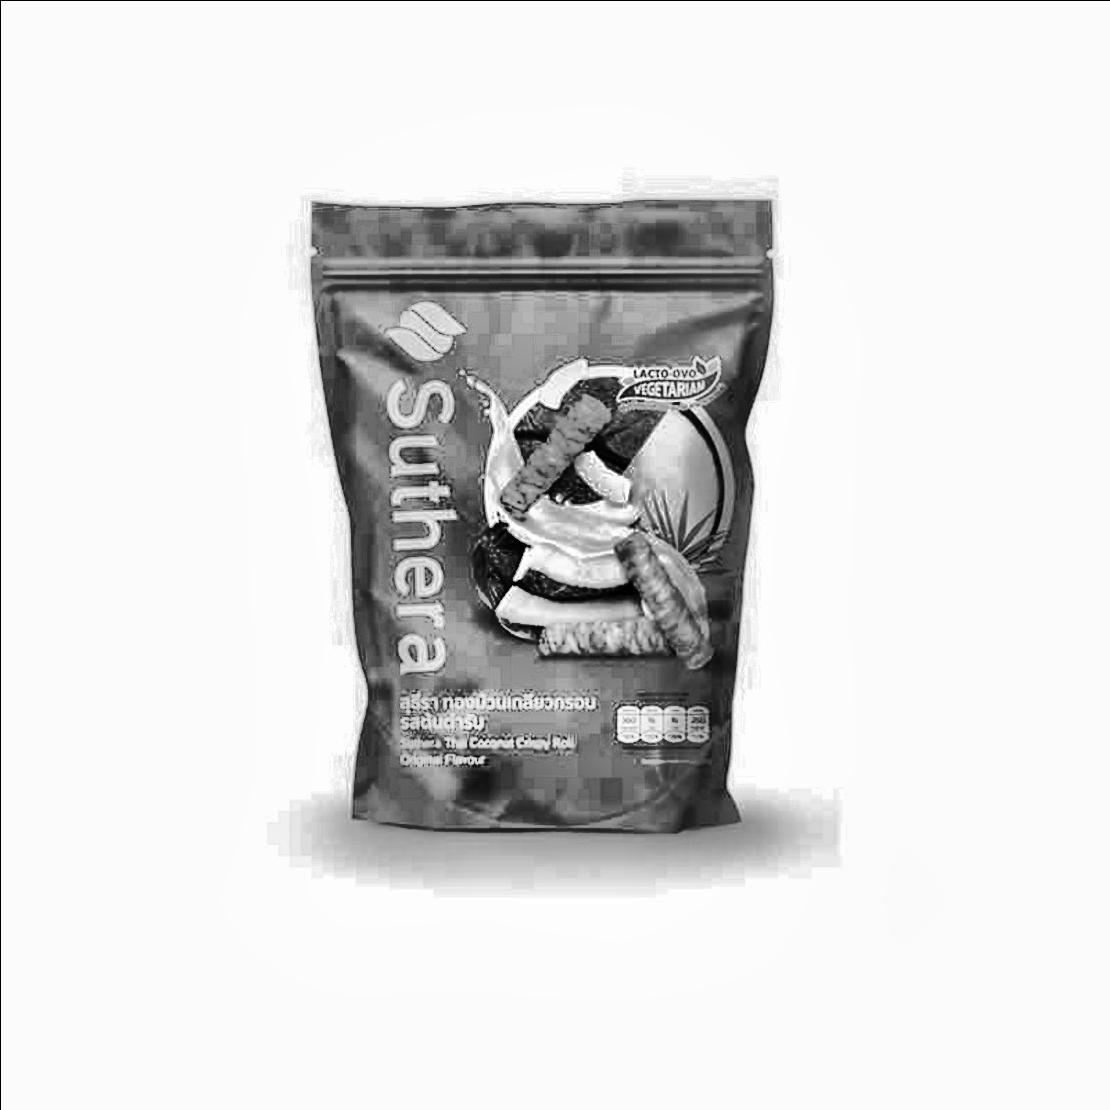snackbag: (251, 96, 832, 940)
